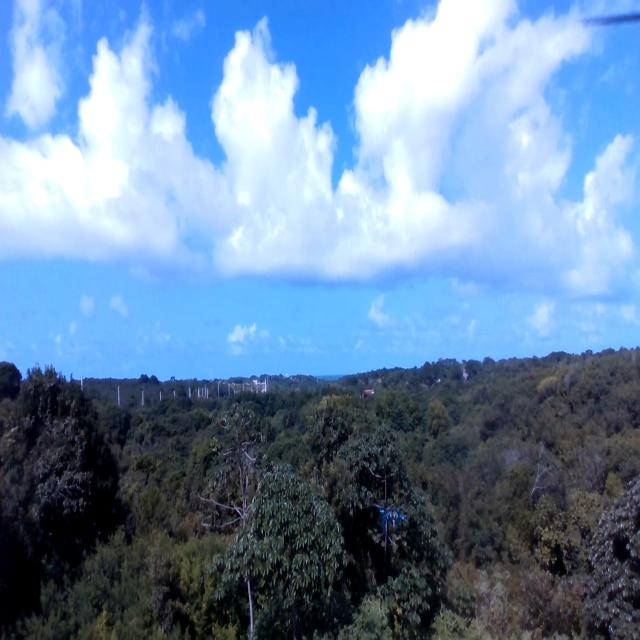-uav-: (369, 493, 419, 548)
